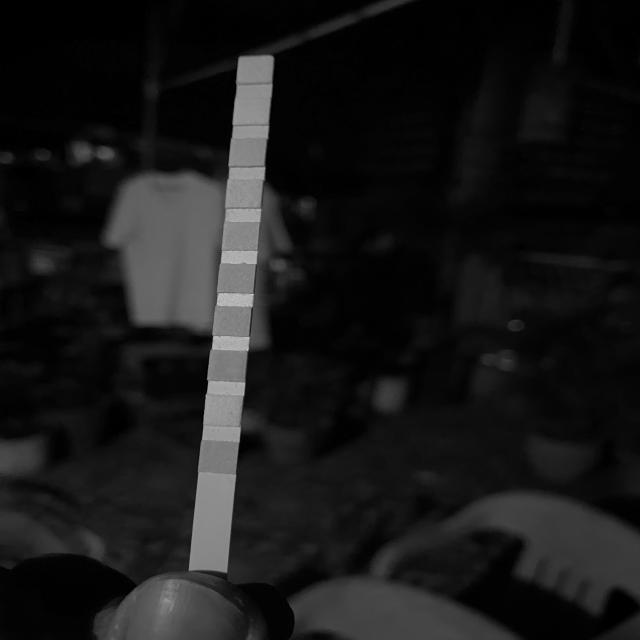Bilirubin: (208, 396, 240, 425)
Blood: (221, 265, 253, 292)
Glucose: (202, 443, 237, 471)
Ketone: (211, 352, 245, 380)
Leukocytes: (239, 57, 272, 82)
Nitrite: (236, 100, 268, 123)
Protein: (229, 182, 259, 206)
SpGravity: (216, 308, 250, 334)
Urobilinogen: (232, 140, 263, 166)
background: (0, 0, 640, 640)
pH: (226, 223, 257, 249)
strip: (189, 55, 274, 568)
